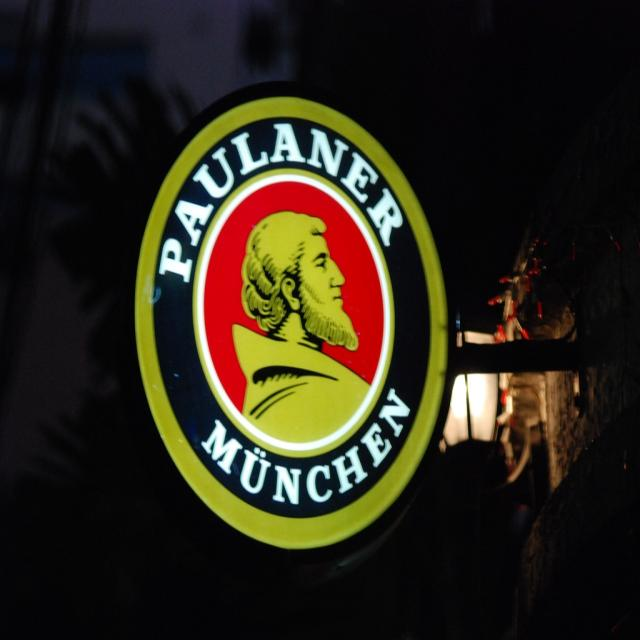paulaner: (133, 96, 448, 552)
